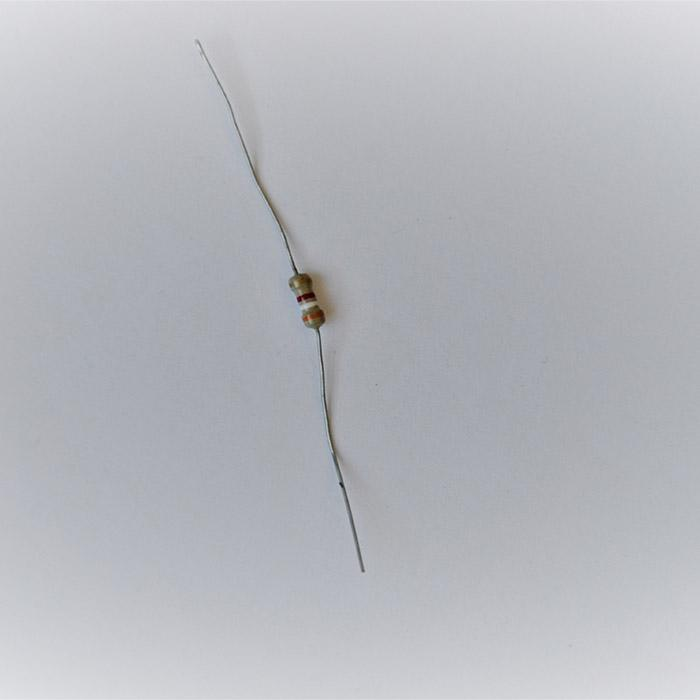resistor: (287, 272, 326, 333)
